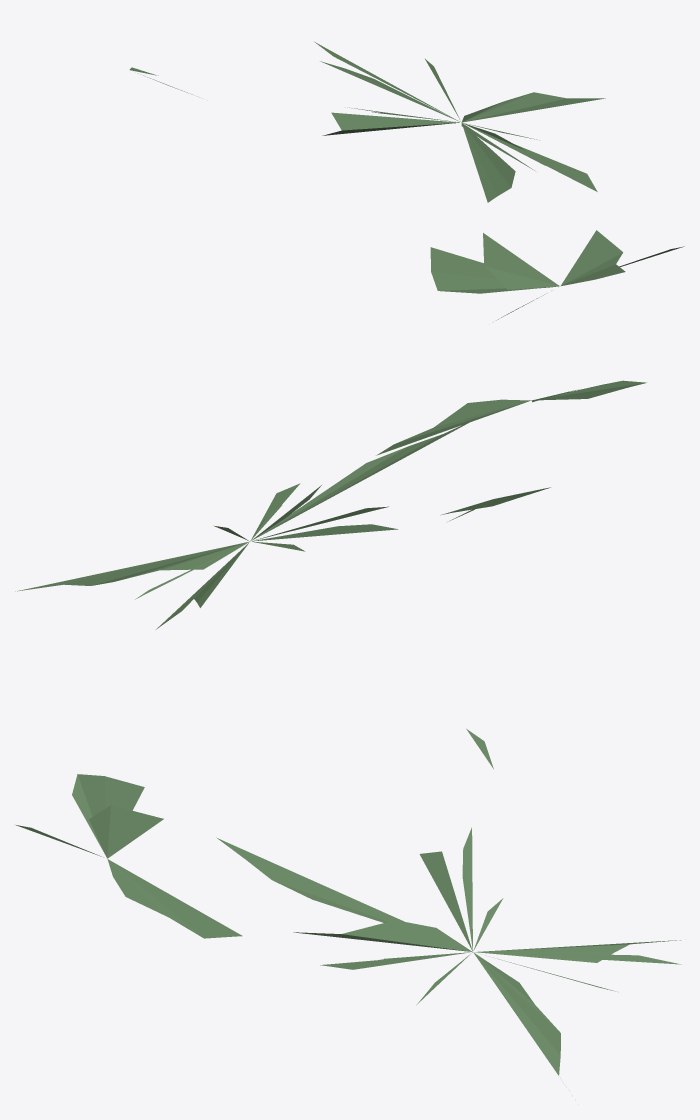
The model's file is c_1665_17818_forest.glb.
3 renders of one model, top to bottom at view 1: azimuth 30°, elevation 25°; view 2: azimuth 150°, elevation 25°; view 3: azimuth 270°, elevation 25°, orthographic. The views are drawn at different scales.
Parts seen in each view (by area): view 1: geometry_0; view 2: geometry_0; view 3: geometry_0.
Part boxes in pixels (bbox=[...]): geometry_0: bbox=[129, 41, 684, 320]; geometry_0: bbox=[15, 380, 646, 629]; geometry_0: bbox=[16, 728, 681, 1075].
Bounding box in the file's own units: 298 × 113 × 344.
